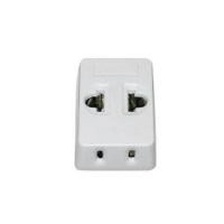three_eye_plug: (71, 49, 159, 173)
